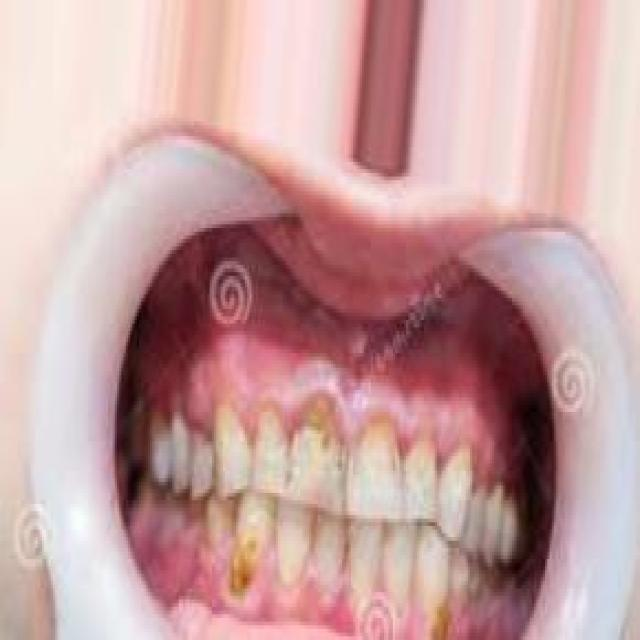caries: (290, 385, 354, 483)
